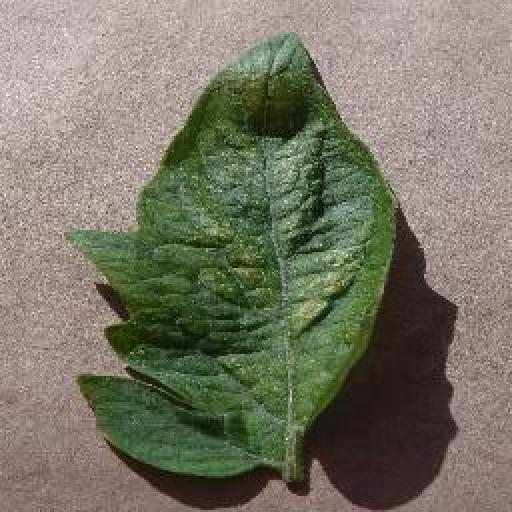Spider Mites: (66, 27, 398, 476)
